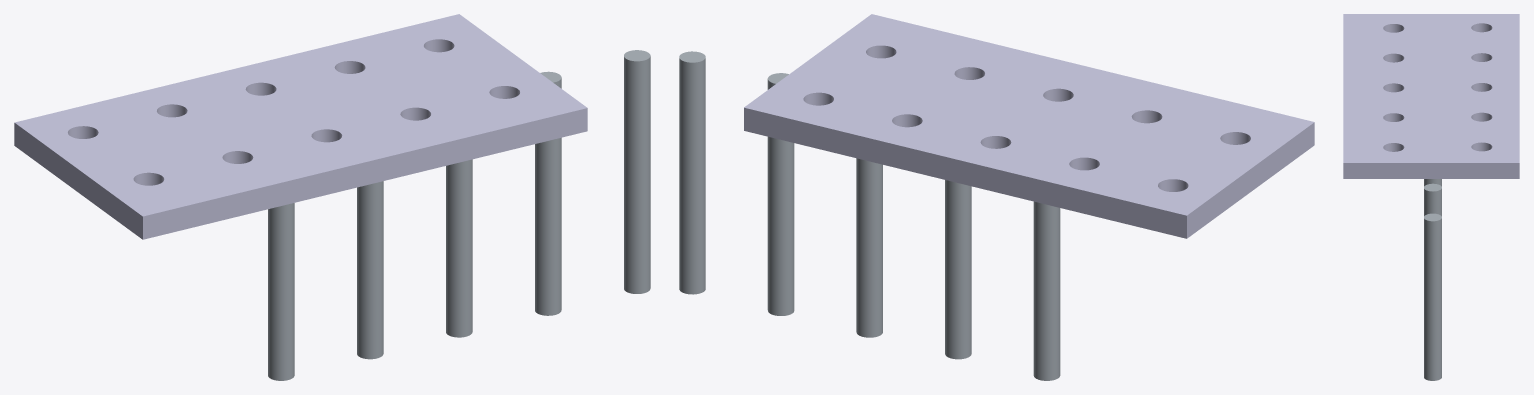
The model's file is electr_cell.gltf.
3 views of the same model, side by side, from view 1: azimuth 30°, elevation 25°; view 2: azimuth 150°, elevation 25°; view 3: azimuth 270°, elevation 25° (orthographic). The views are drawn at different scales.
Visible parts, largest first — view 1: Body, Body001; view 2: Body, Body001; view 3: Body, Body001.
Part boxes in pixels (box(x1,y1,x2,y2)): Body: box(14, 14, 587, 239); Body001: box(268, 50, 650, 380); Body: box(744, 14, 1314, 238); Body001: box(679, 51, 1060, 380); Body: box(1343, 14, 1519, 178); Body001: box(1424, 179, 1441, 380).
Size of the model in its own units: 0.1284 by 0.055 by 0.05.
